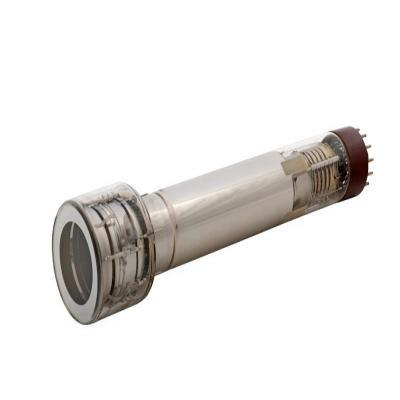technique: (50, 127, 372, 327)
